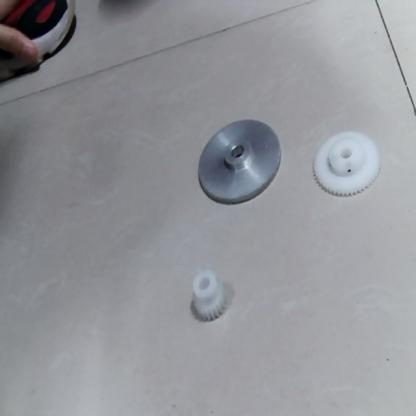FOD: (195, 112, 288, 210), (307, 128, 387, 199), (188, 269, 234, 327)
